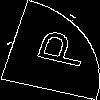P: (25, 25, 90, 71)
